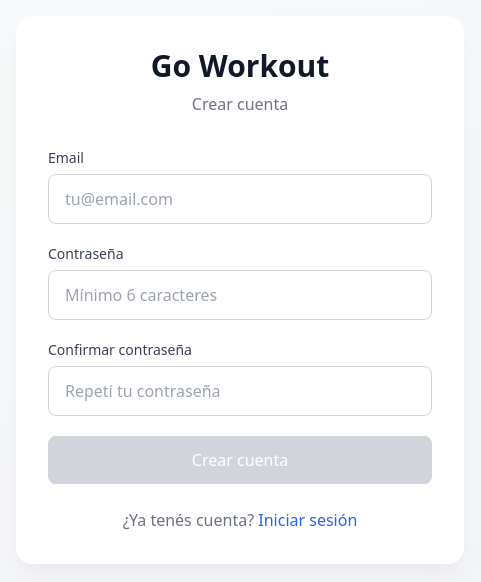
Test: RegistroPage › Registro exitoso › muestra estado de carga durante el registro
The width and height of the screenshot is (481, 582).
Step 1. Type "test@example.com" into the field labelled "Email" → {"x": 240, "y": 199}, box [48,174,432,224]
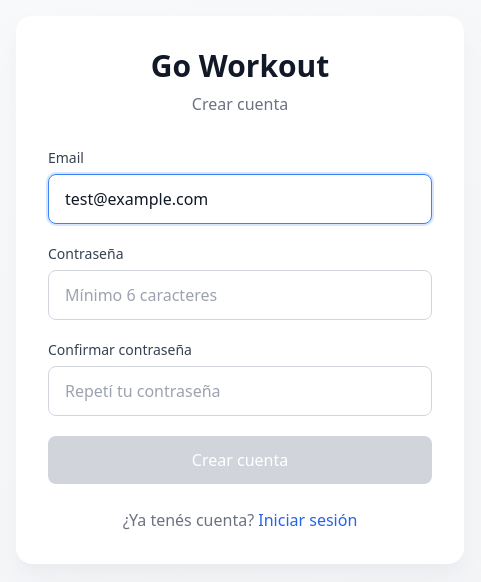
Step 2. Type "password123" into the password field labelled "Contraseña" → {"x": 240, "y": 295}, box [48,270,432,320]
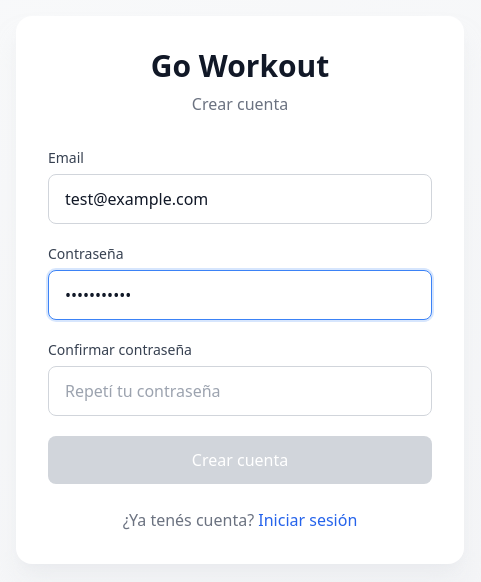
Step 3. Type "password123" into the password field labelled "Confirmar contraseña" → {"x": 240, "y": 391}, box [48,366,432,416]
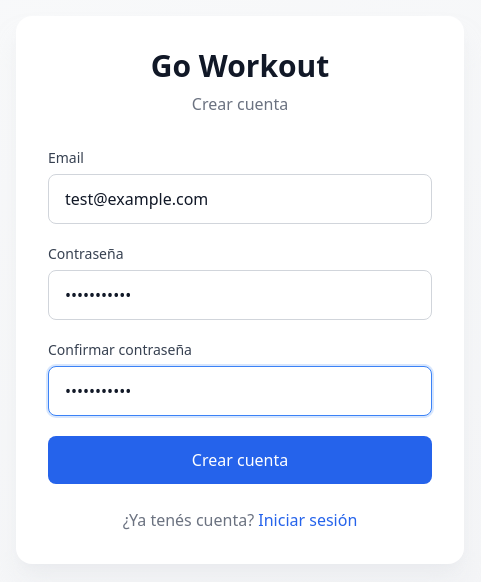
Step 4. Click the button "Crear cuenta" → {"x": 240, "y": 460}, box [48,436,432,484]
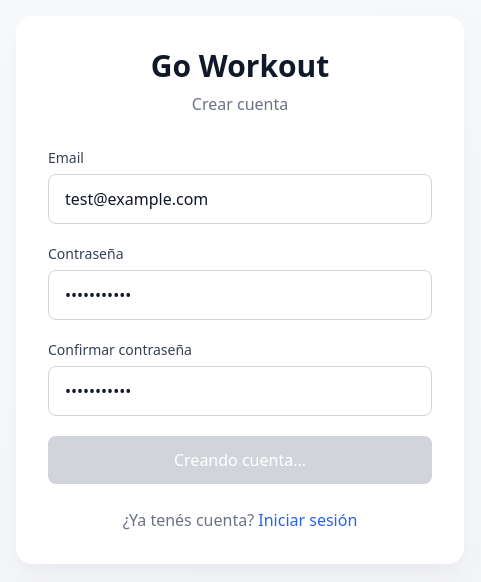
Now the button "Creando cuenta..." is disabled, box [48,436,432,484]
